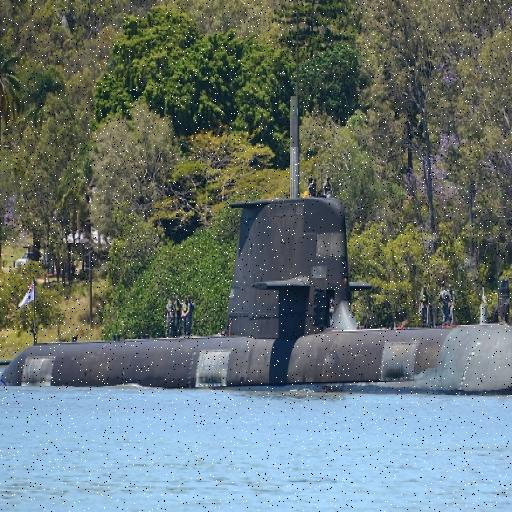submarine: (2, 196, 512, 392)
